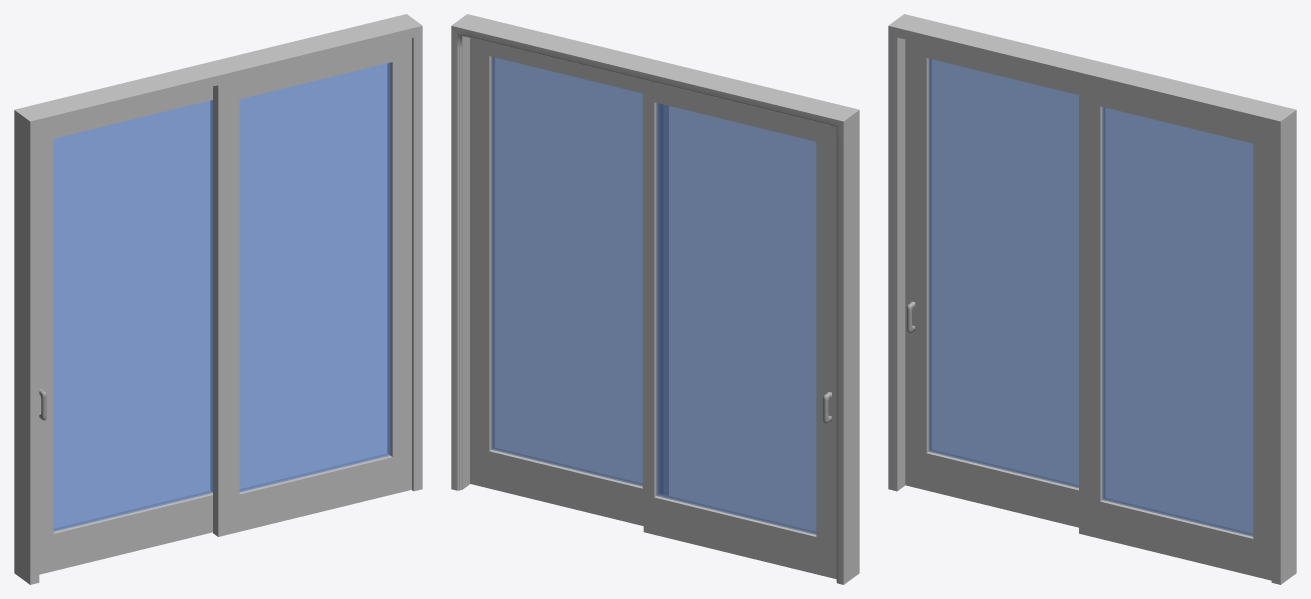
3 renders of one model, left to right at view 1: azimuth 30°, elevation 25°; view 2: azimuth 150°, elevation 25°; view 3: azimuth 330°, elevation 25°, orthographic.
Parts seen in each view (by area): view 1: 16668_84x96_Slider_Door-Black_V1; view 2: 16668_84x96_Slider_Door-Black_V1; view 3: 16668_84x96_Slider_Door-Black_V1.
Boxes of the visible parts, x1,y1,x2,y2 form: 16668_84x96_Slider_Door-Black_V1: (14,14,422,584); 16668_84x96_Slider_Door-Black_V1: (451,14,859,584); 16668_84x96_Slider_Door-Black_V1: (888,14,1296,584).
Bounding box in the file's own units: 218 × 246 × 17.31.
